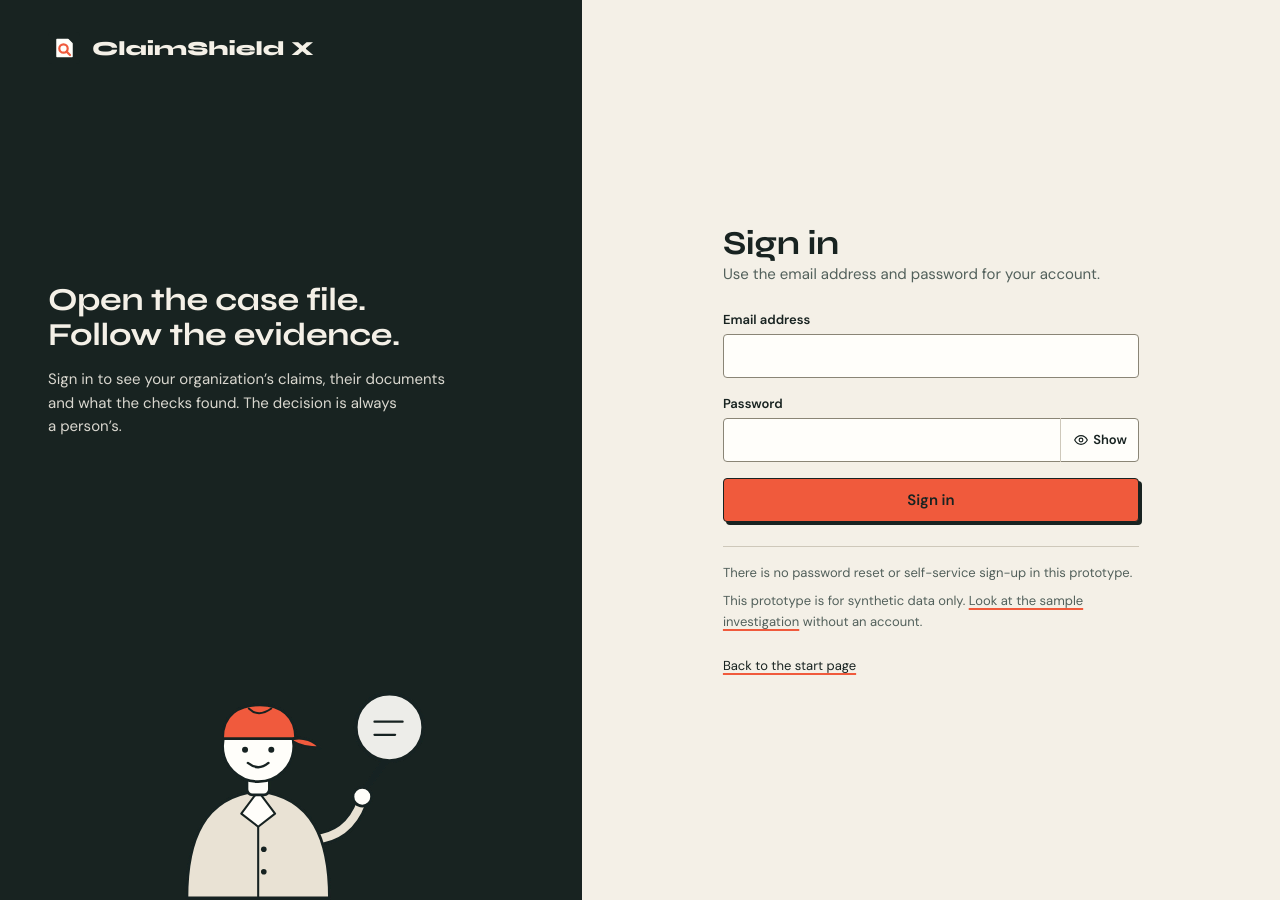
Test case: LoginPage form › shows field errors, focuses the first invalid field, and sends nothing
The image size is (1280, 900).
Step 1. Click the button "Sign in" → click(931, 500), box [723, 478, 1139, 522]
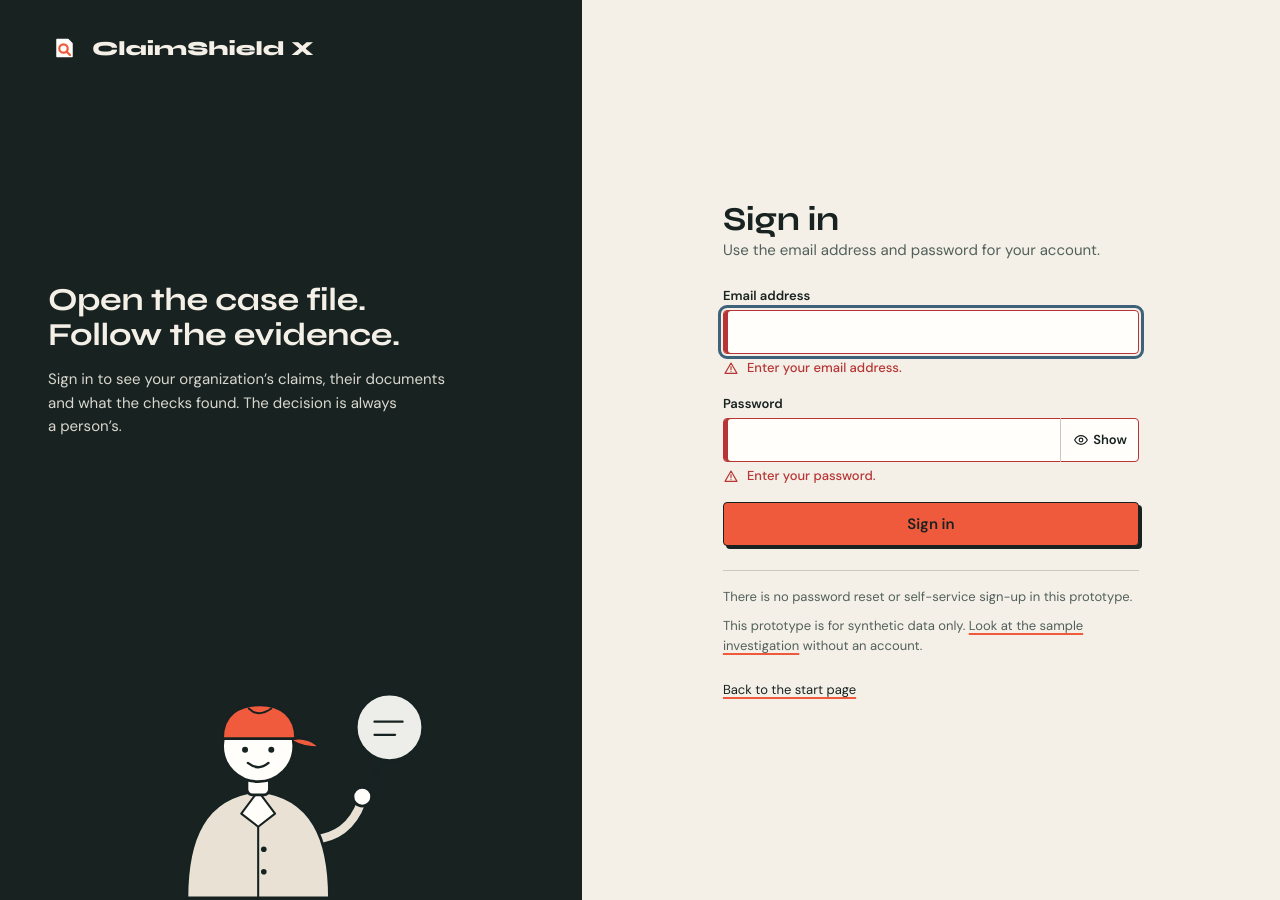
Now the text "Enter your email address." is shown, box [747, 358, 902, 378]
Now the text "Enter your password." is shown, box [747, 466, 876, 486]
